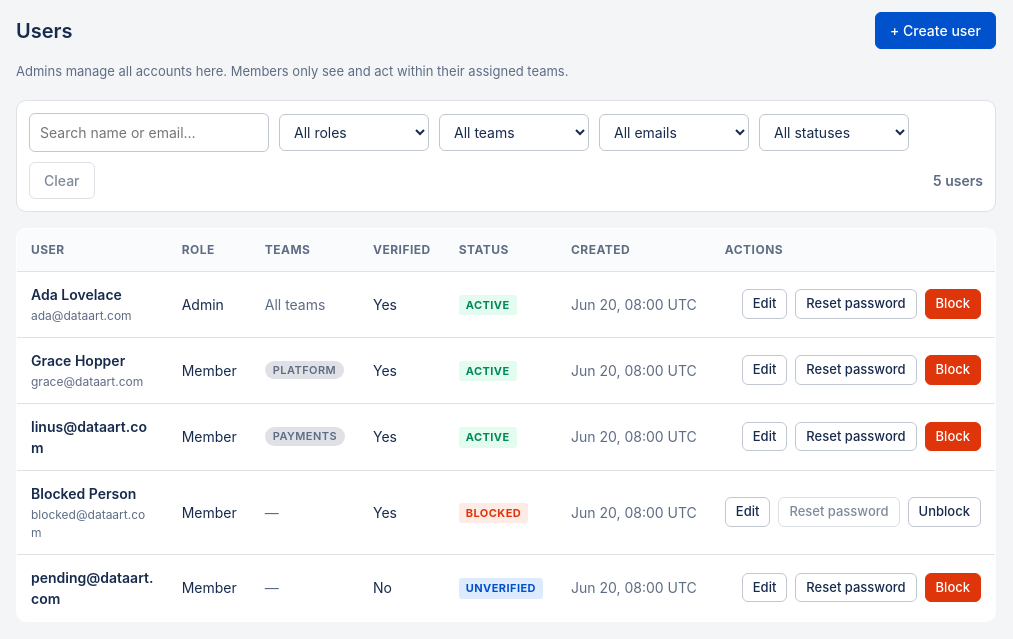
Test case: UsersPage › filtering › filters by role
expect the text "Ada Lovelace" is shown: met, box top-left (31, 286), bottom-right (122, 302)
Select "Admin" in the dropdown named "Filter by role" at {"x": 354, "y": 132}, box top-left (279, 114), bottom-right (429, 150)
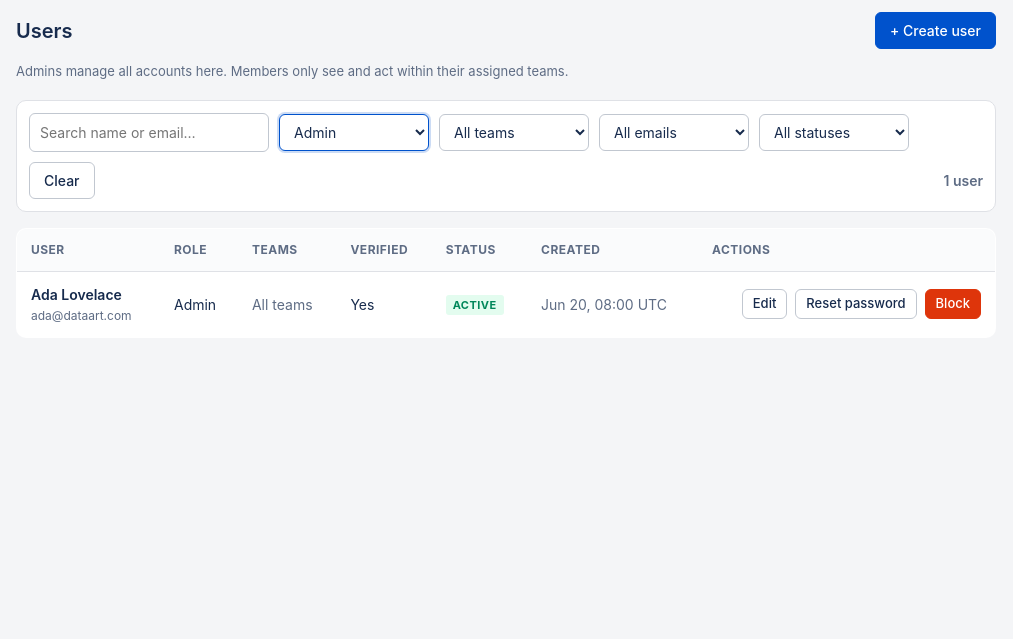
expect the text "Ada Lovelace" is shown: met, box top-left (31, 286), bottom-right (122, 302)
expect the text "Grace Hopper" is gone: met
